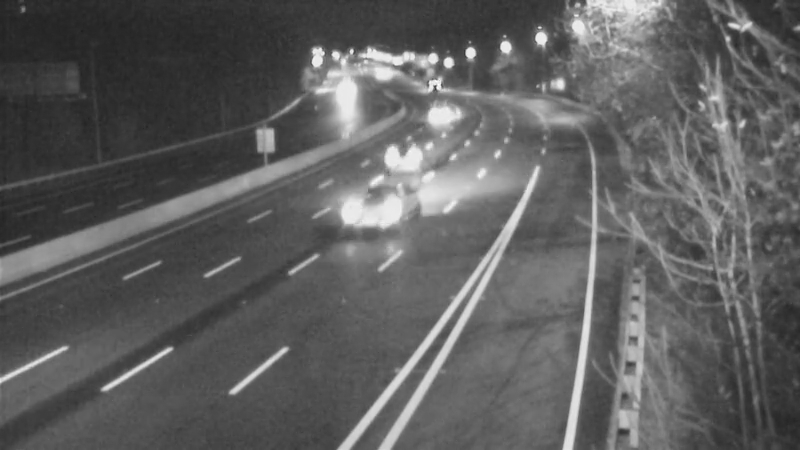vehicle: (366, 120, 446, 200), (346, 165, 426, 245), (408, 60, 458, 110), (417, 92, 467, 142), (318, 71, 368, 121)
